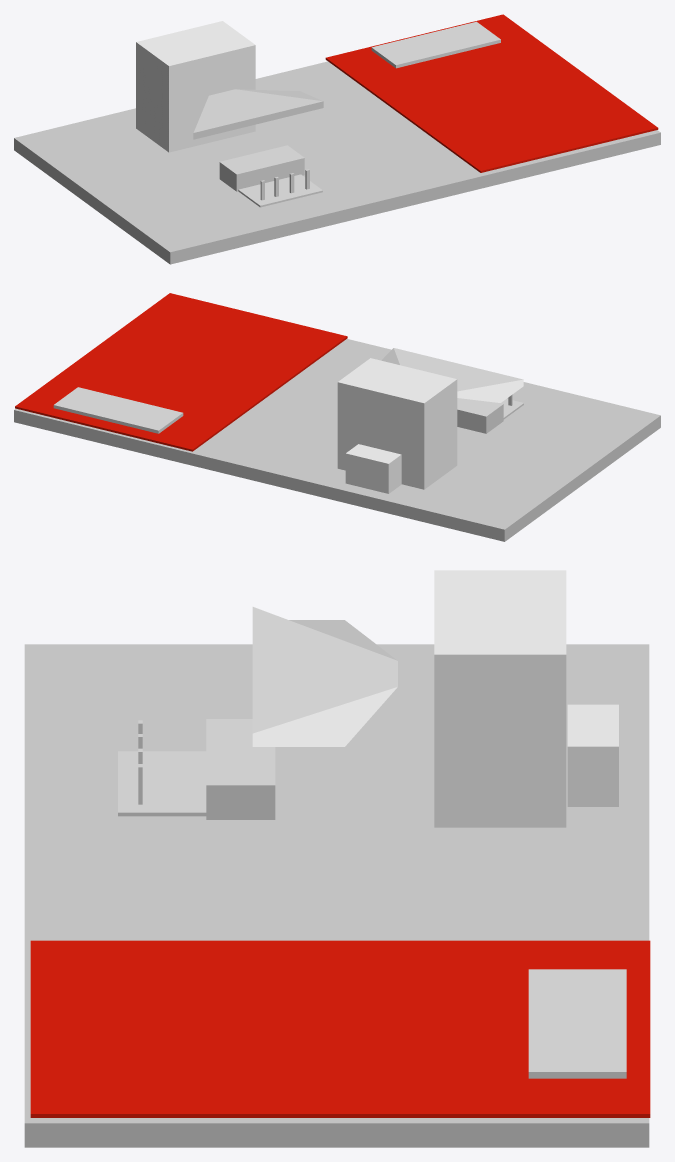
File: sscbs-upd5.glb
The picture shows the model from 3 angles, top to bottom: view 1: azimuth 30°, elevation 25°; view 2: azimuth 150°, elevation 25°; view 3: azimuth 270°, elevation 25°; orthographic projection. The views are drawn at different scales.
Visible parts, largest first — view 1: Cube, Cube.001, Cube.009, Cube.011, Cube.002, Cube.003, Cube.008; view 2: Cube, Cube.001, Cube.009, Cube.002, Cube.011, Cube.010, Cube.003; view 3: Cube, Cube.001, Cube.009, Cube.011, Cube.002, Cube.003, Cube.008, Cube.010.
Boxes of the visible parts, x1=… form: Cube: x1=14, y1=61, x2=660, y2=264; Cube.001: x1=325, y1=14, x2=658, y2=172; Cube.009: x1=136, y1=21, x2=255, y2=152; Cube.011: x1=170, y1=89, x2=323, y2=139; Cube.002: x1=371, y1=21, x2=500, y2=68; Cube.003: x1=219, y1=145, x2=304, y2=191; Cube.008: x1=238, y1=174, x2=322, y2=207; Cube: x1=14, y1=339, x2=660, y2=541; Cube.001: x1=15, y1=293, x2=347, y2=451; Cube.009: x1=337, y1=358, x2=457, y2=489; Cube.002: x1=53, y1=387, x2=183, y2=433; Cube.011: x1=381, y1=348, x2=523, y2=402; Cube.010: x1=345, y1=444, x2=401, y2=493; Cube.003: x1=457, y1=398, x2=503, y2=433; Cube: x1=24, y1=644, x2=649, y2=1147; Cube.001: x1=30, y1=940, x2=650, y2=1117; Cube.009: x1=434, y1=570, x2=566, y2=827; Cube.011: x1=252, y1=607, x2=397, y2=746; Cube.002: x1=528, y1=969, x2=626, y2=1078; Cube.003: x1=206, y1=719, x2=275, y2=819; Cube.008: x1=118, y1=751, x2=206, y2=816; Cube.010: x1=567, y1=704, x2=618, y2=806.
Size of the model in its own units: 246 by 47.35 by 136.
